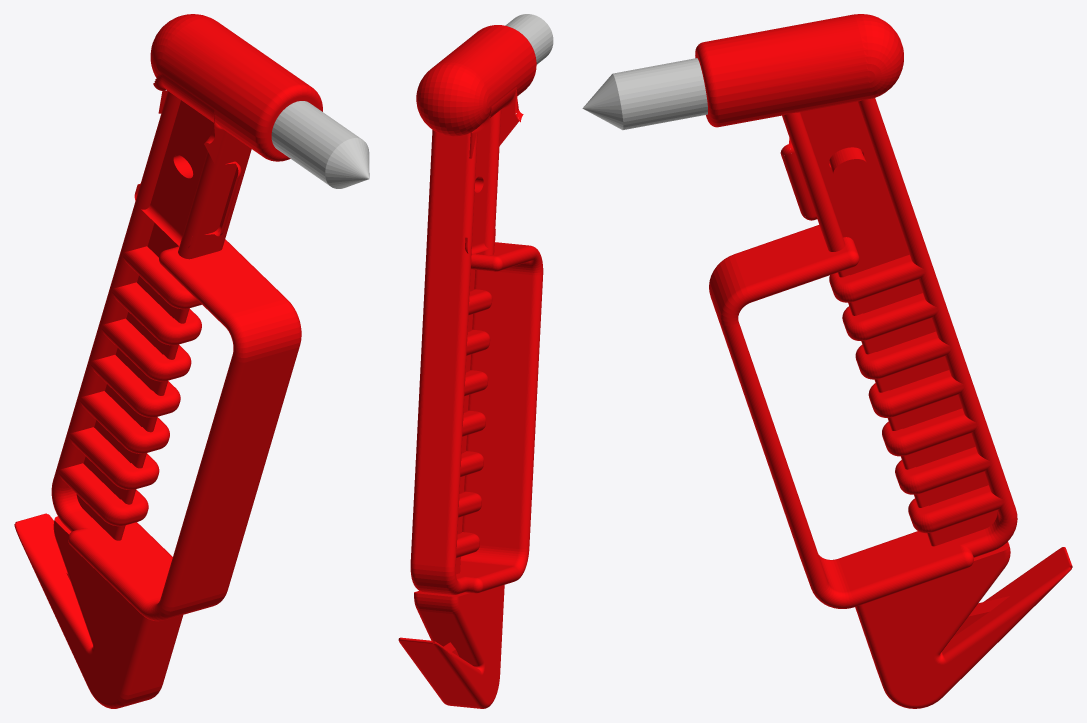
File: Weapon2.fbx
3 views of the same model, side by side, from view 1: azimuth 30°, elevation 25°; view 2: azimuth 150°, elevation 25°; view 3: azimuth 270°, elevation 25° (orthographic). The views are drawn at different scales.
Parts seen in each view (by area): view 1: User_Library_Break_Glass_Hammer_STL; view 2: User_Library_Break_Glass_Hammer_STL; view 3: User_Library_Break_Glass_Hammer_STL.
Part boxes in pixels (<box>): User_Library_Break_Glass_Hammer_STL: <box>14,14,369,708</box>; User_Library_Break_Glass_Hammer_STL: <box>398,14,553,708</box>; User_Library_Break_Glass_Hammer_STL: <box>582,14,1072,708</box>.
Bounding box in the file's own units: 10.51 × 50.34 × 31.77.
